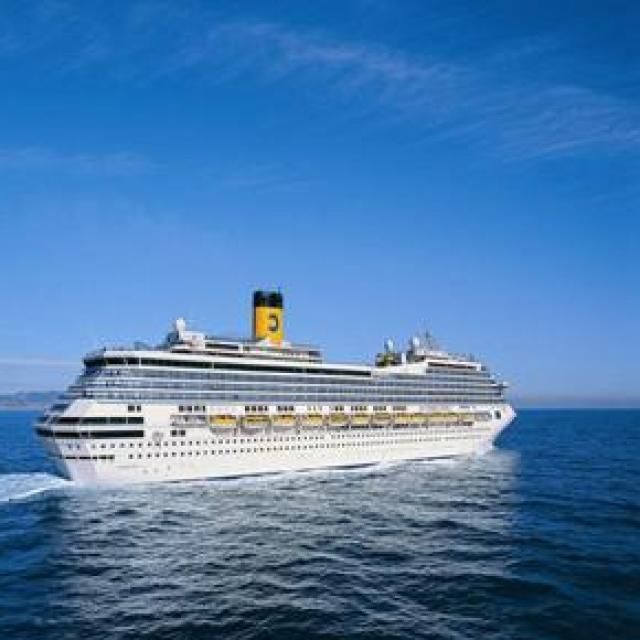passenger ship: (46, 284, 521, 487)
